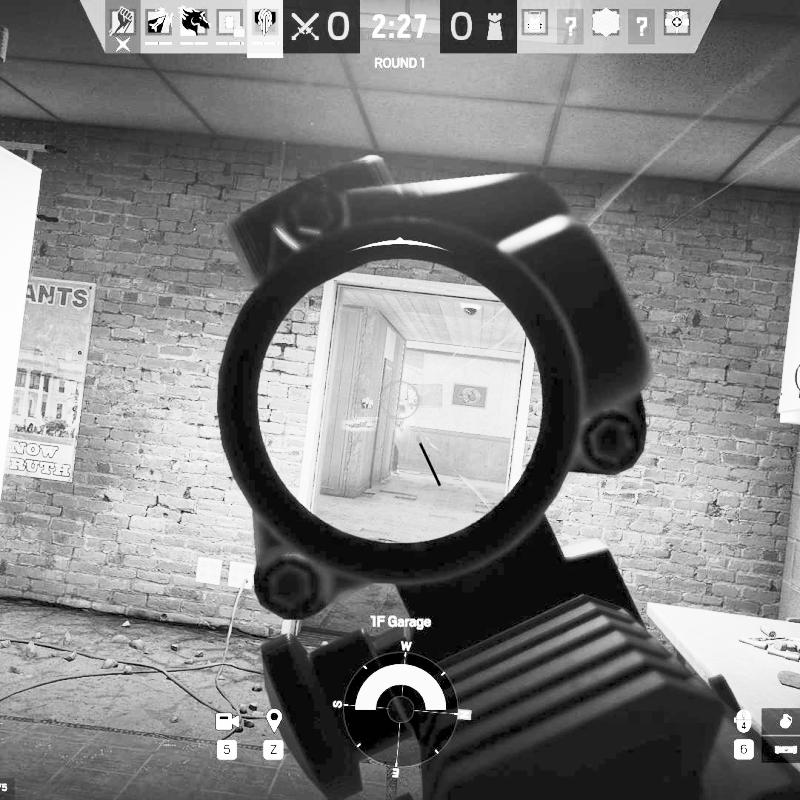Character: (389, 403, 407, 476)
Friend_label: (353, 396, 379, 422)
Head: (397, 404, 407, 414)
